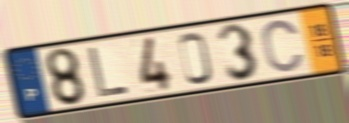0: (177, 31, 215, 87)
3: (217, 21, 261, 83)
4: (137, 34, 174, 93)
8: (44, 46, 86, 108)
C: (260, 17, 306, 74)
L: (86, 45, 132, 100)
